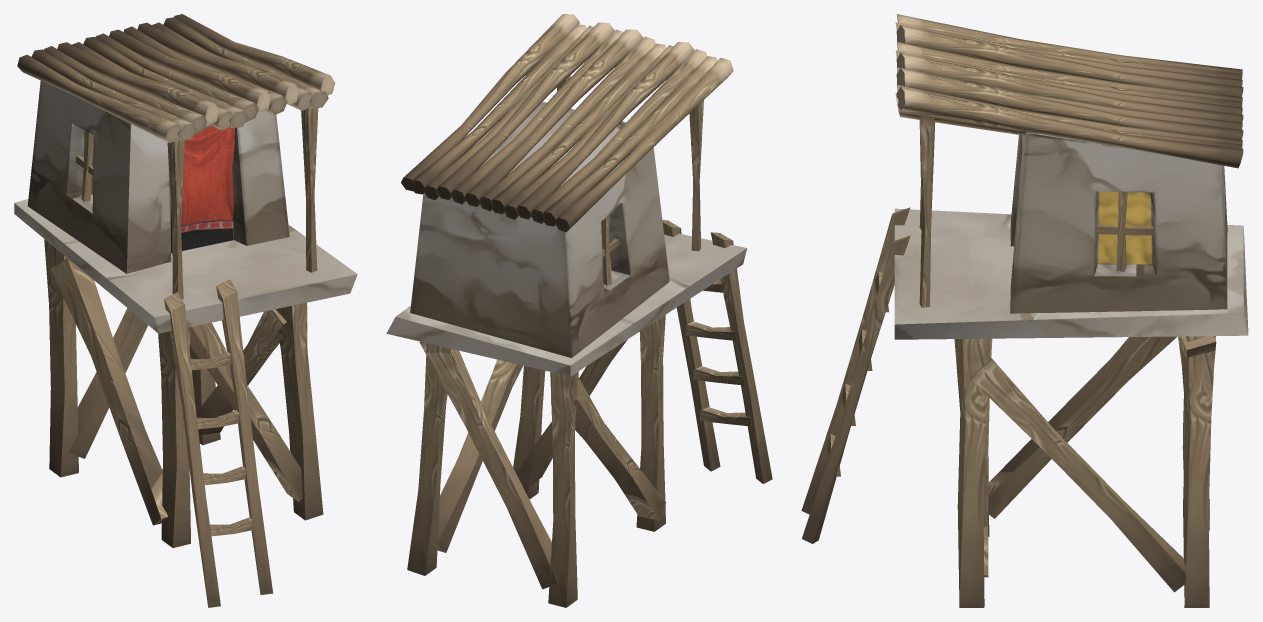
File: Egypt_Village_Props_08.FBX
3 views of the same model, side by side, from view 1: azimuth 30°, elevation 25°; view 2: azimuth 150°, elevation 25°; view 3: azimuth 270°, elevation 25° (orthographic). The views are drawn at different scales.
Visible parts, largest first — view 1: Egypt_Village_Props_08; view 2: Egypt_Village_Props_08; view 3: Egypt_Village_Props_08.
Part boxes in pixels (left/top/right/bottom): Egypt_Village_Props_08: left=14, top=14, right=357, bottom=607; Egypt_Village_Props_08: left=386, top=14, right=772, bottom=607; Egypt_Village_Props_08: left=801, top=14, right=1248, bottom=607.
Size of the model in its own units: 310 by 675 by 537.
